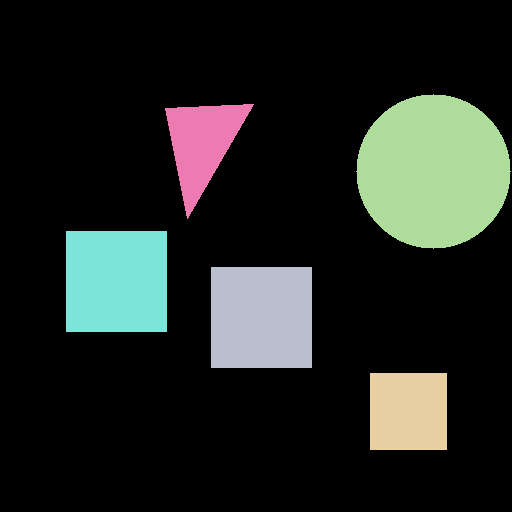circle: (356, 94, 510, 248)
square: (211, 267, 311, 367), (66, 231, 166, 331), (370, 373, 446, 449)
triangle: (165, 104, 253, 218)
